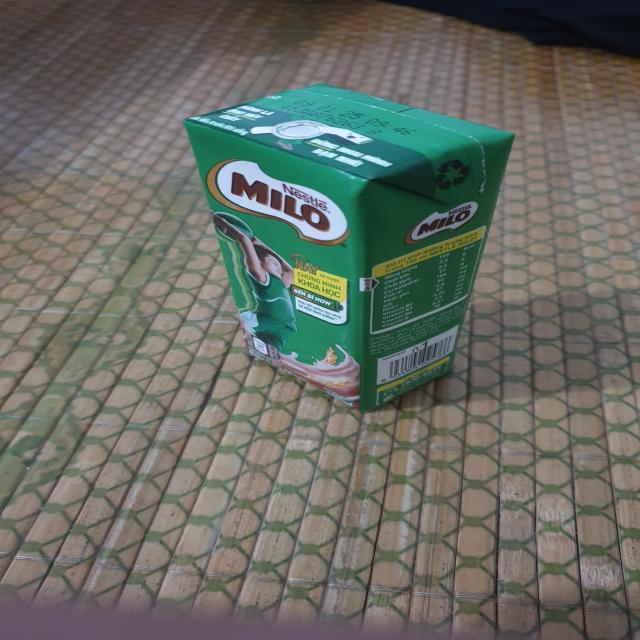Milo: (190, 90, 523, 401)
